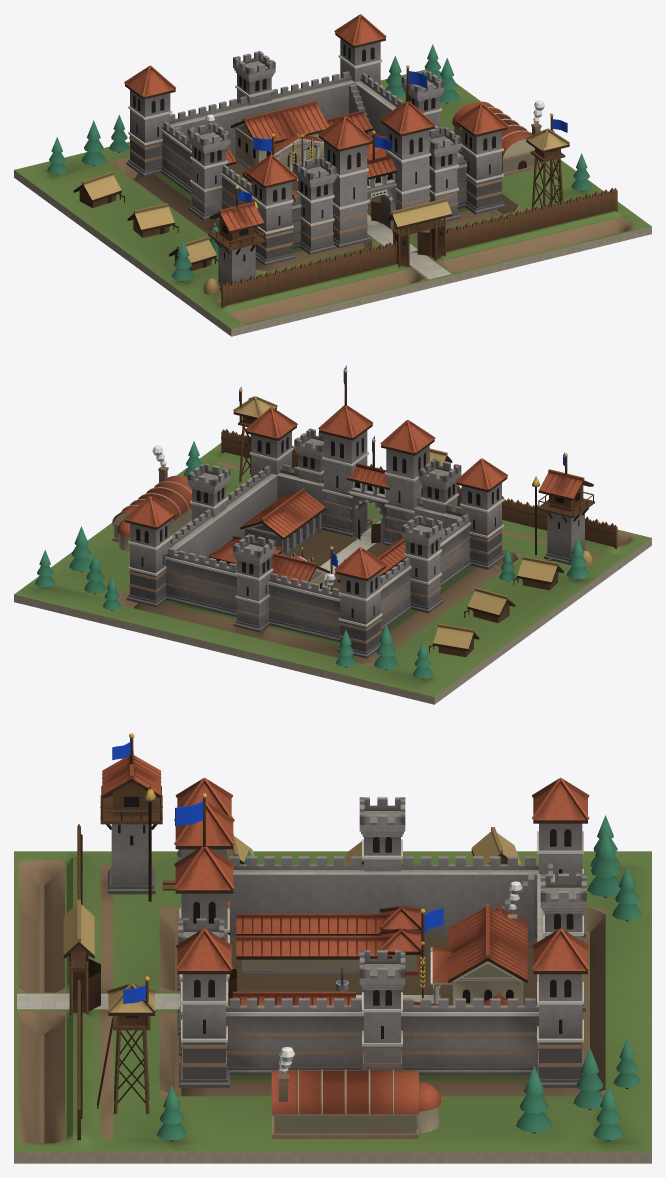
The model's file is lm_limes.glb.
3 renders of one model, top to bottom at view 1: azimuth 30°, elevation 25°; view 2: azimuth 150°, elevation 25°; view 3: azimuth 270°, elevation 25°, orthographic. The views are drawn at different scales.
Visible parts, largest first — view 1: lm_limes; view 2: lm_limes; view 3: lm_limes.
Part boxes in pixels (x1,y1,x2,y2): lm_limes: (14,14,651,336); lm_limes: (14,365,651,704); lm_limes: (14,733,651,1163).
Size of the model in its own units: 2.3 by 0.8876 by 2.06.
Materials: 1 (1 with a texture image).
